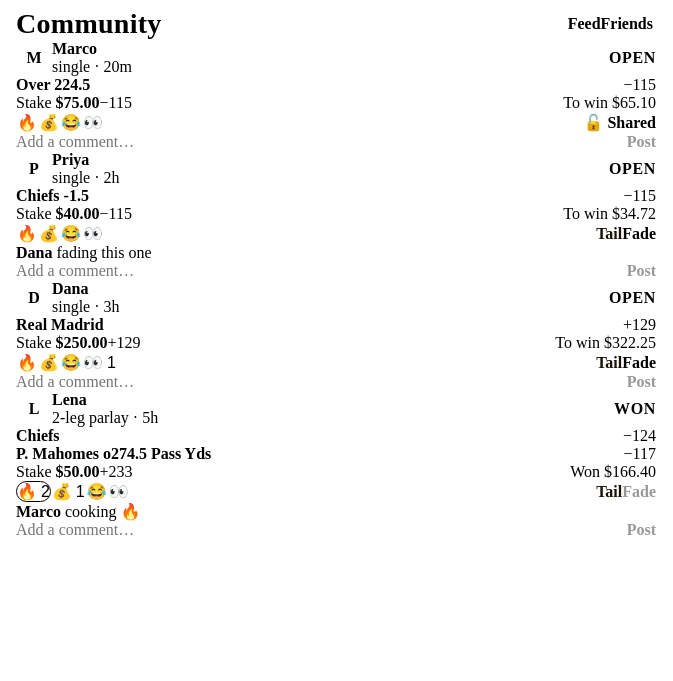
Test: CommunitySection › fades a single slip → the OPPOSITE selection, through core
Click the button "Fade" below "To win $34.72".
click(639, 234)  # box [622,224,656,242]
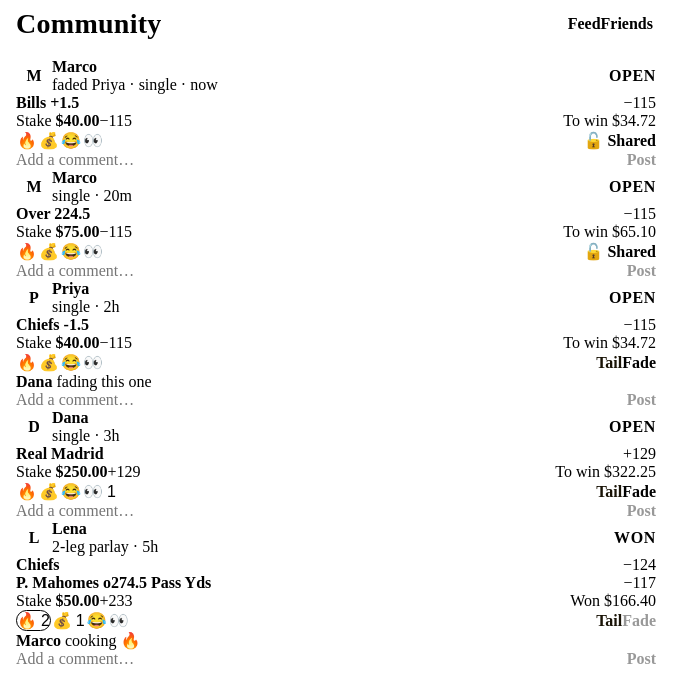
Now the text "faded Priya" is shown, box [52,76,139,93]
